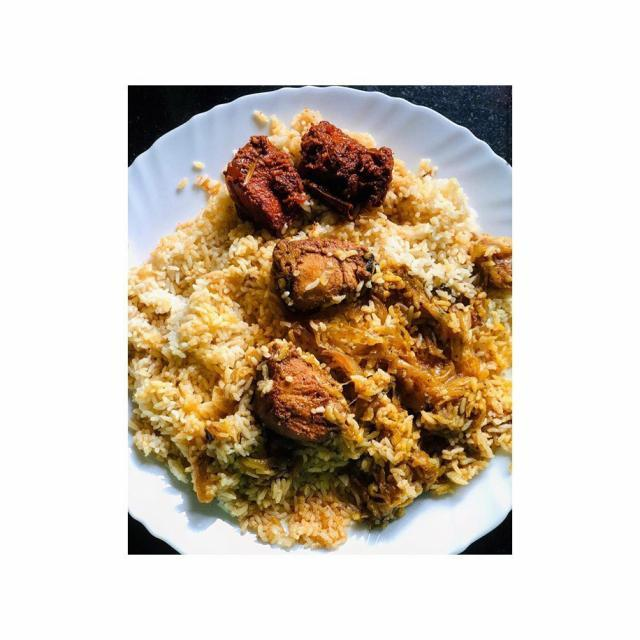biryani: (141, 122, 436, 432)
